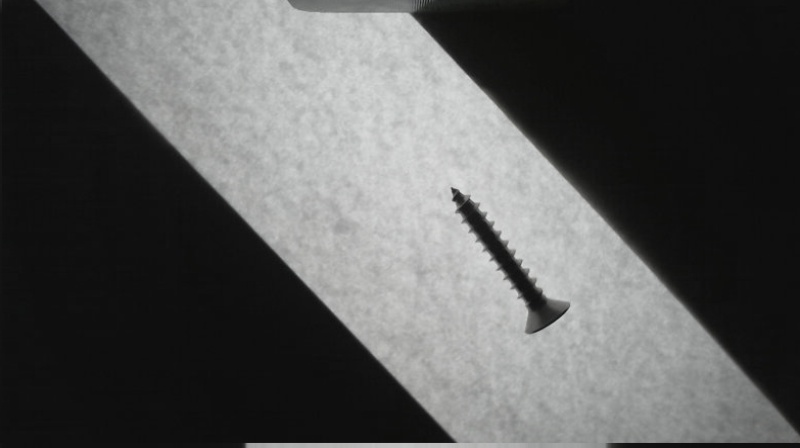S001: (443, 181, 572, 340)
